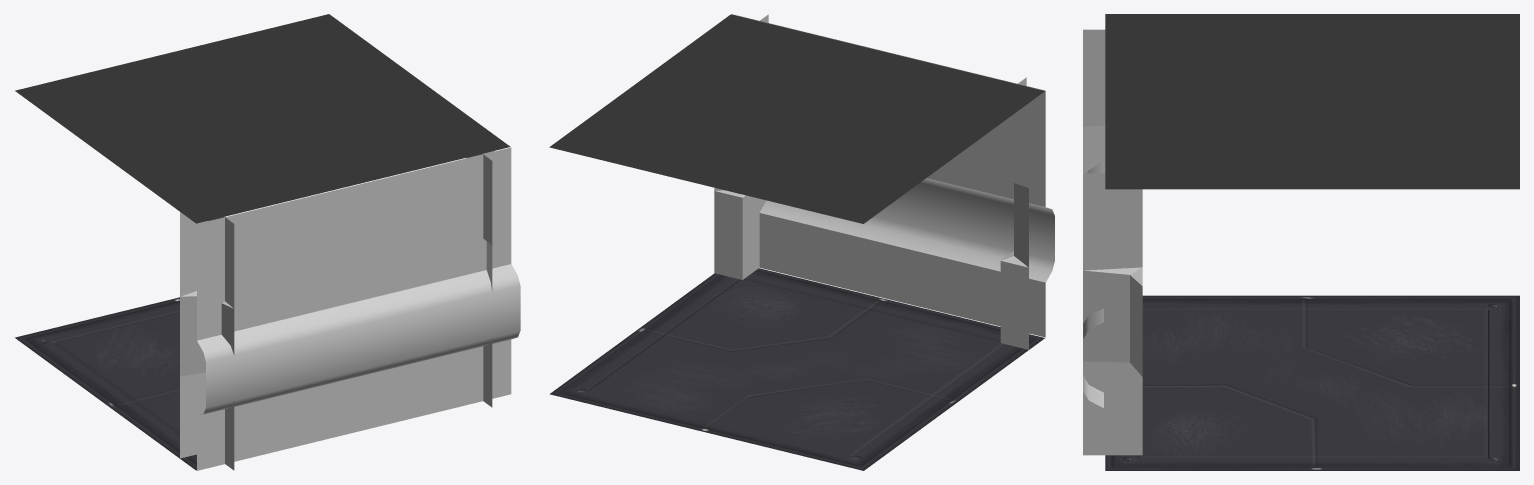
File: chamberOpenWalled.fbx
3 renders of one model, left to right at view 1: azimuth 30°, elevation 25°; view 2: azimuth 150°, elevation 25°; view 3: azimuth 270°, elevation 25°, orthographic. The views are drawn at different scales.
Parts seen in each view (by area): view 1: int_entrance.002, int_ceiling, int_entrance.000; view 2: int_ceiling, int_entrance.000, int_entrance.002; view 3: int_ceiling, int_entrance.000, int_entrance.002.
Boxes of the visible parts, x1=… form: int_entrance.002: x1=180, y1=147, x2=520, y2=470; int_ceiling: x1=15, y1=14, x2=510, y2=223; int_entrance.000: x1=15, y1=297, x2=196, y2=470; int_ceiling: x1=549, y1=14, x2=1044, y2=223; int_entrance.000: x1=549, y1=268, x2=1044, y2=470; int_entrance.002: x1=714, y1=14, x2=1054, y2=349; int_ceiling: x1=1105, y1=14, x2=1519, y2=189; int_entrance.000: x1=1105, y1=295, x2=1519, y2=470; int_entrance.002: x1=1083, y1=29, x2=1142, y2=455.
Size of the model in its own units: 4 by 3.02 by 4.21.
